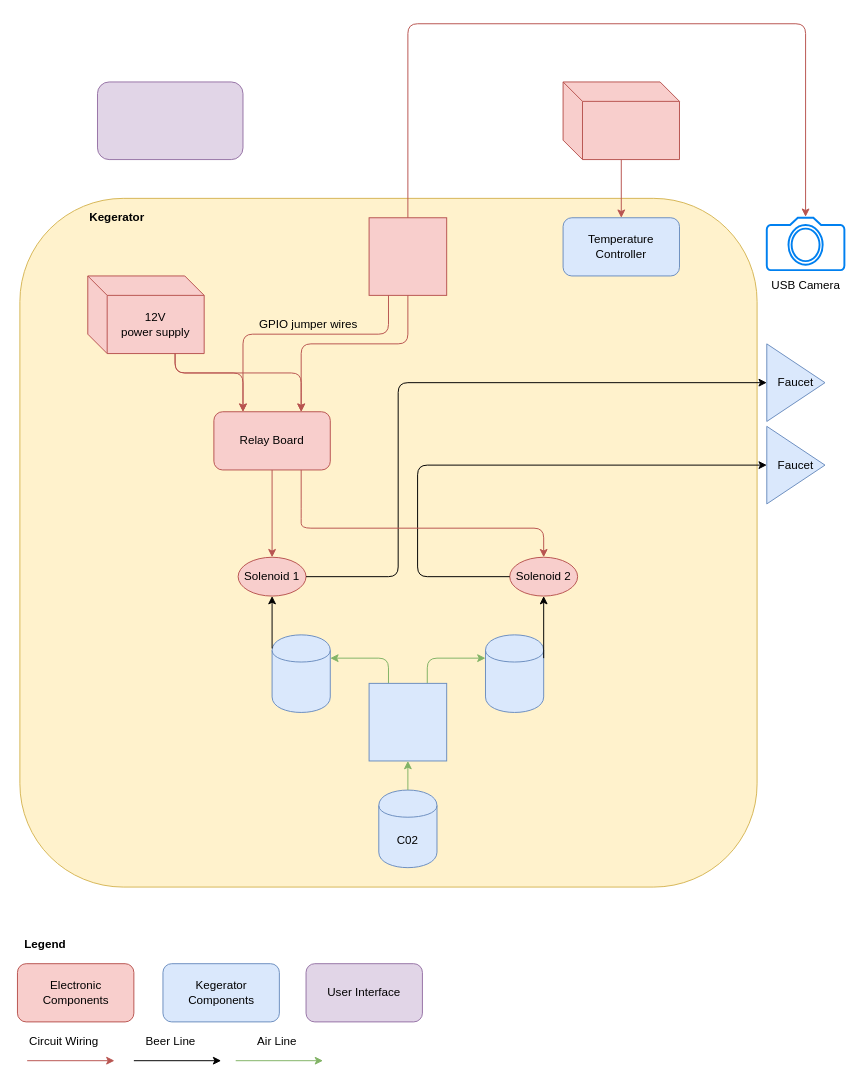
The diagram is 865 pixels wide and 1085 high, and some of its shapes have lost their labels. The box of each missing label's shape, as (x1, y1, x2, y2) in pixels:
Air Manifold: (368, 682, 447, 761)
Echo Device: (97, 81, 243, 160)
Keg 1: (271, 634, 330, 712)
Keg 2: (485, 634, 544, 712)
Power Outlet: (562, 81, 679, 160)
Raspberry Pi: (368, 217, 447, 295)
